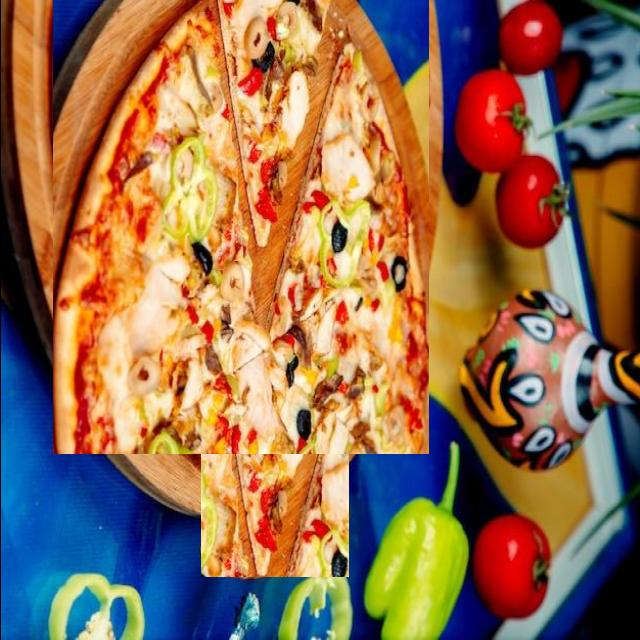olive: (128, 58, 159, 97), (244, 394, 266, 436), (276, 414, 296, 452), (284, 448, 302, 488), (191, 178, 211, 212), (303, 467, 323, 498), (251, 383, 273, 411), (390, 163, 406, 197), (331, 202, 347, 232), (296, 14, 310, 44), (285, 66, 297, 100)
pizza: (51, 0, 428, 454), (200, 206, 348, 577), (378, 3, 395, 25)
